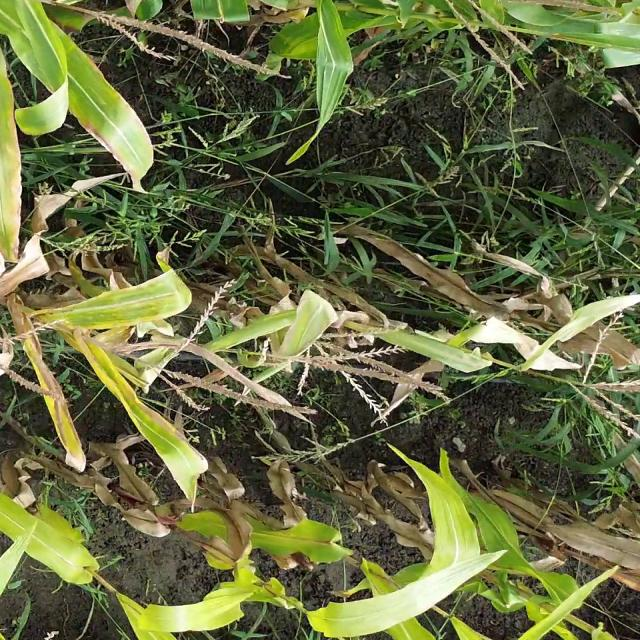northern-leaf-blight: (90, 362, 186, 458), (74, 100, 159, 190), (61, 286, 188, 329)
